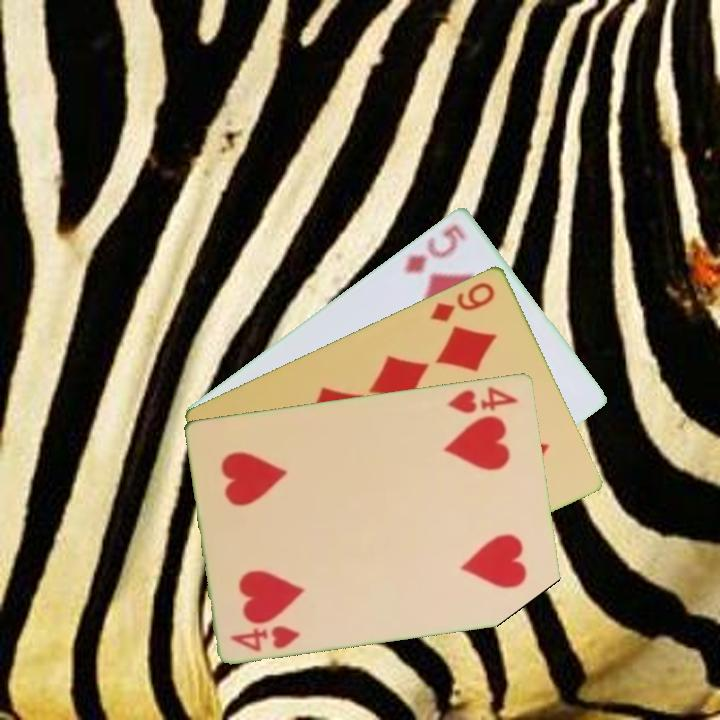4h: (444, 382, 521, 416), (227, 621, 304, 655)
5d: (400, 220, 470, 277)
9d: (426, 278, 498, 325)
